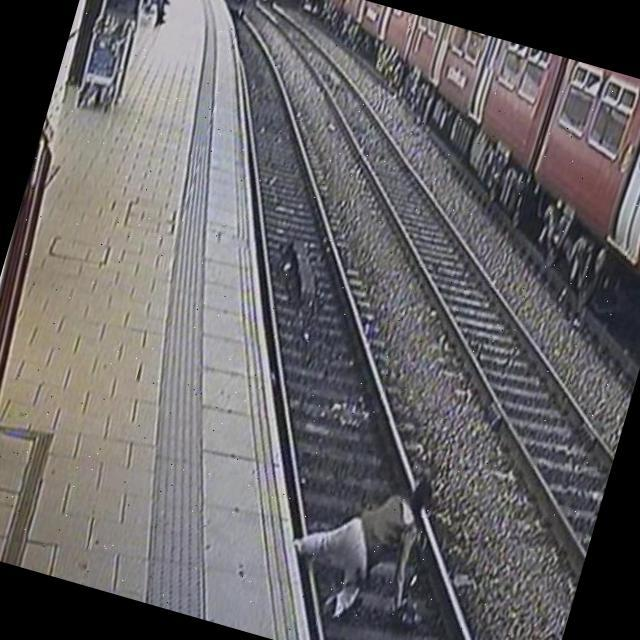person: (260, 421, 462, 640), (123, 0, 187, 29)
